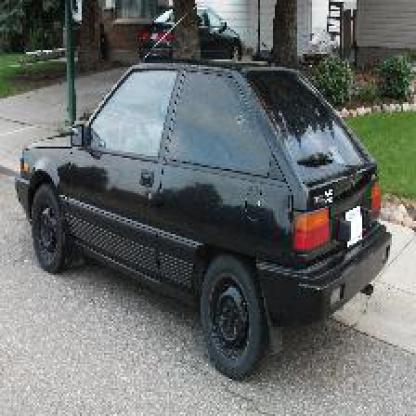not_emergency: (22, 50, 398, 338)
